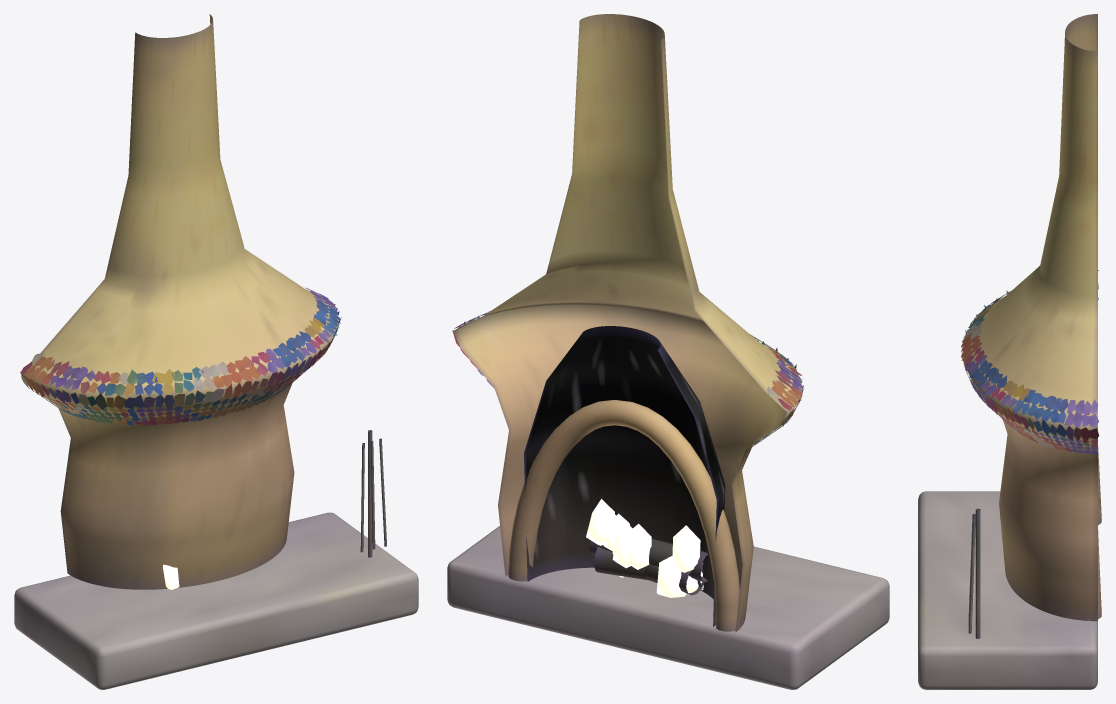
File: gaudi_somine.glb
3 views of the same model, side by side, from view 1: azimuth 30°, elevation 25°; view 2: azimuth 150°, elevation 25°; view 3: azimuth 270°, elevation 25° (orthographic). The views are drawn at different scales.
Visible parts, largest first — view 1: gaudi_somine_LOD0; view 2: gaudi_somine_LOD0; view 3: gaudi_somine_LOD0.
Boxes of the visible parts, <box> form: gaudi_somine_LOD0: <box>14,14,418,689</box>; gaudi_somine_LOD0: <box>447,14,889,689</box>; gaudi_somine_LOD0: <box>918,14,1101,689</box>.
Size of what is drawn, in the model's own units: 1.9 by 3.2 by 0.9189.
